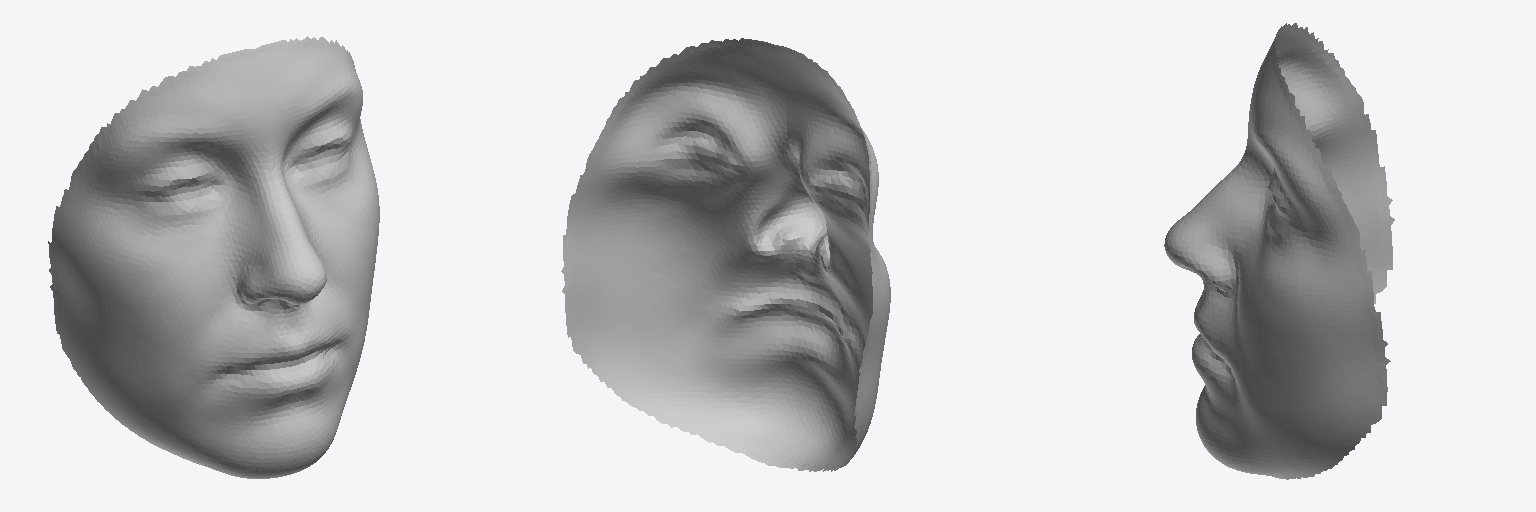
The model's file is SIMPOP_38.obj.
3 views of the same model, side by side, from view 1: azimuth 30°, elevation 25°; view 2: azimuth 150°, elevation 25°; view 3: azimuth 270°, elevation 25° (orthographic).
Visible parts, largest first — view 1: SIMPOP_38; view 2: SIMPOP_38; view 3: SIMPOP_38.
Boxes of the visible parts, box(x1,y1,x2,y2) form: SIMPOP_38: box(48, 36, 379, 478); SIMPOP_38: box(561, 38, 890, 471); SIMPOP_38: box(1164, 23, 1394, 479).
Size of the model in its own units: 136 by 177 by 87.58.